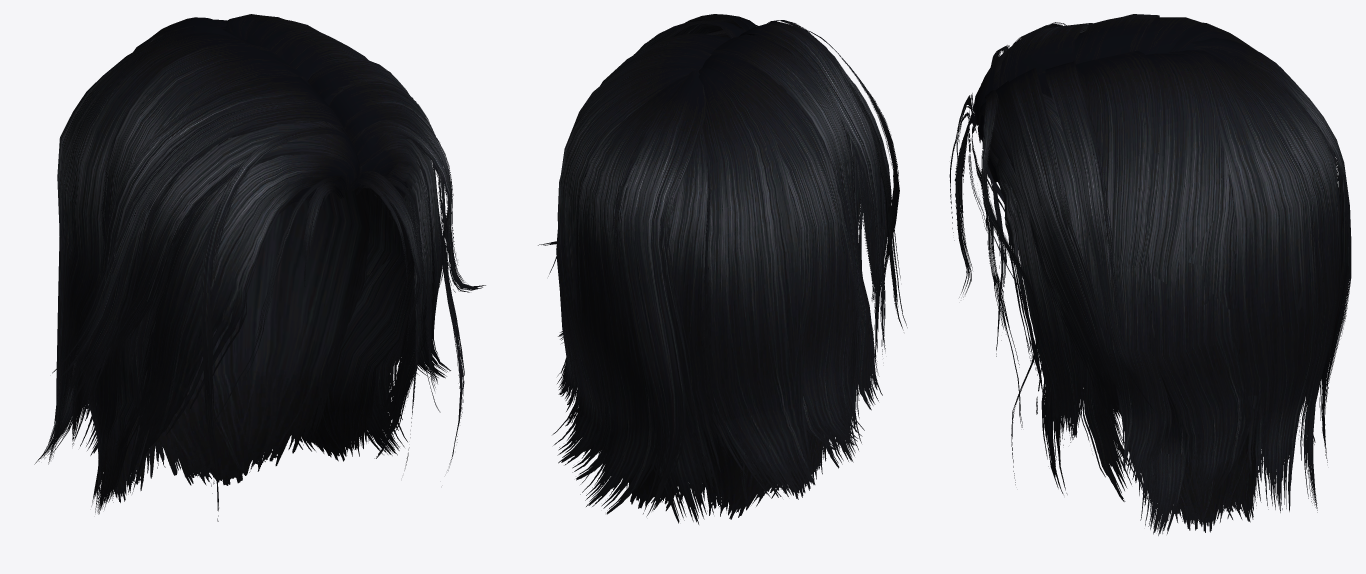
File: haircut.fbx
The picture shows the model from 3 angles, left to right: view 1: azimuth 30°, elevation 25°; view 2: azimuth 150°, elevation 25°; view 3: azimuth 270°, elevation 25°; orthographic projection. The views are drawn at different scales.
Parts seen in each view (by area): view 1: Head; view 2: Head; view 3: Head.
Part boxes in pixels (x1,y1,x2,y2): Head: (34, 14, 485, 521); Head: (538, 14, 907, 524); Head: (949, 14, 1351, 535).
Bounding box in the file's own units: 0.2744 × 0.2986 × 0.2246.
1 material, 1 textured.
